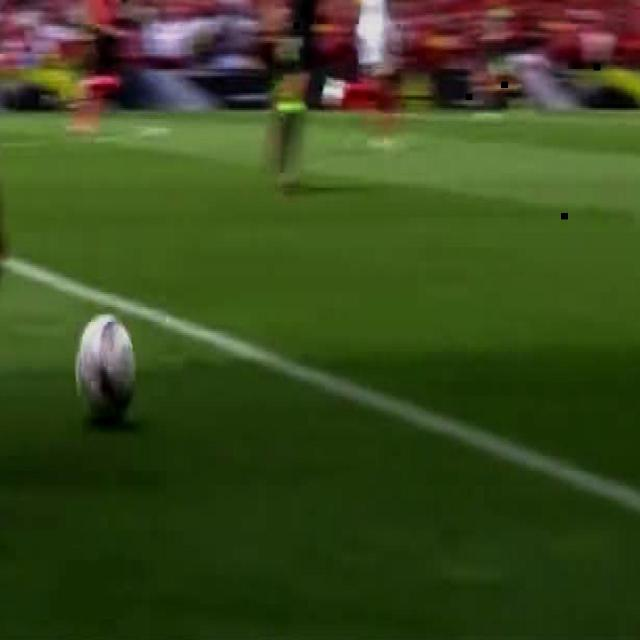ball: (77, 308, 135, 422)
player-white: (0, 0, 133, 502), (273, 0, 329, 190), (358, 0, 404, 145)
